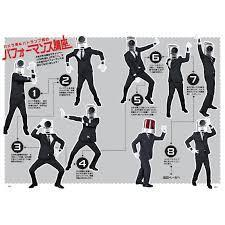no more kid: (75, 34, 89, 50)
